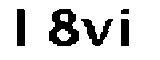8: (44, 6, 80, 52)
i: (116, 4, 138, 52)
l: (9, 3, 39, 55)
v: (80, 17, 113, 49)
